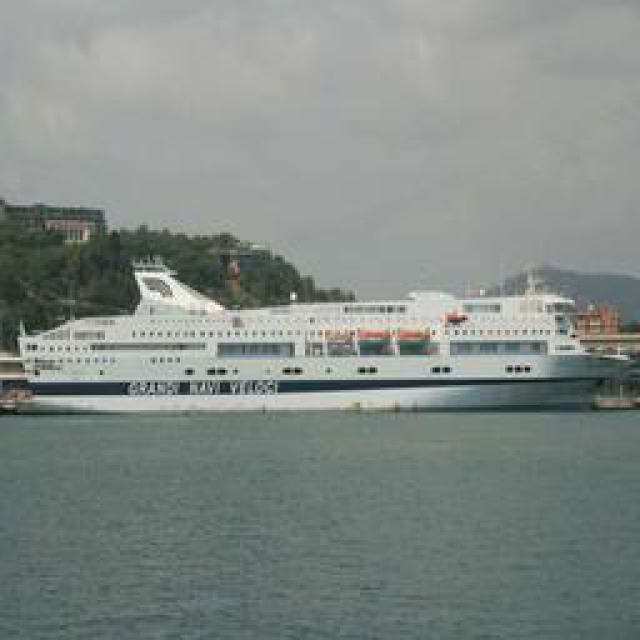Ship: (12, 262, 625, 410)
